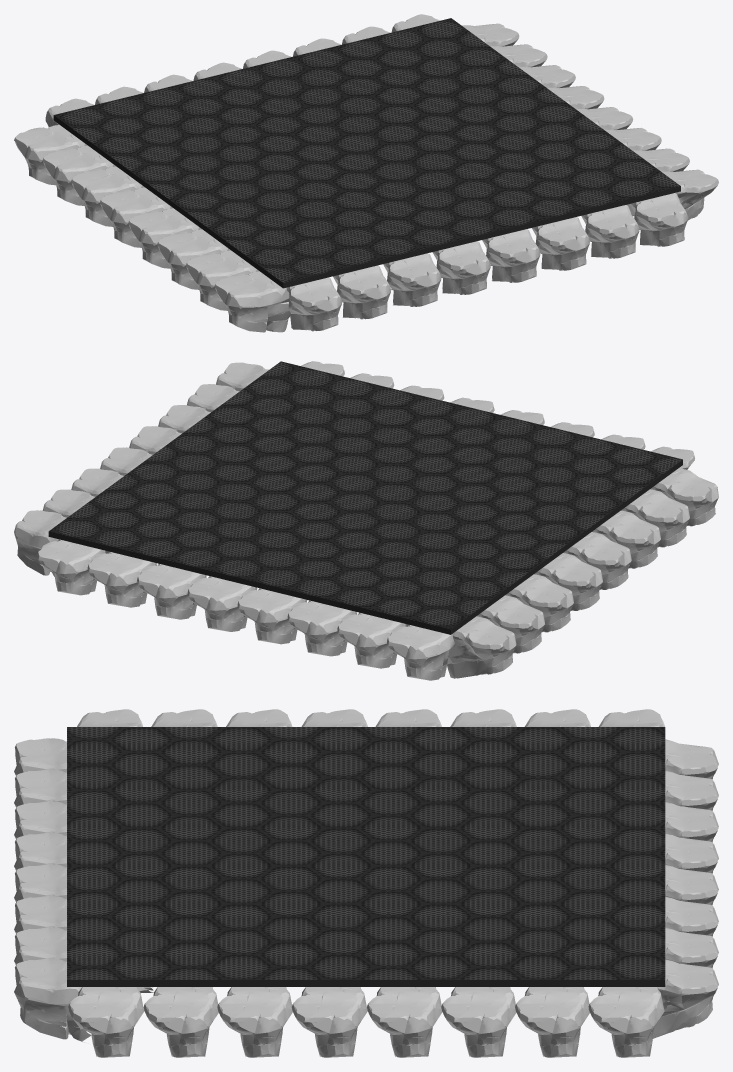
The model's file is Main Plane with Rocks.fbx.
3 renders of one model, top to bottom at view 1: azimuth 30°, elevation 25°; view 2: azimuth 150°, elevation 25°; view 3: azimuth 270°, elevation 25°, orthographic. The views are drawn at different scales.
Visible parts, largest first — view 1: Main_Plane, TAI_Rock_Large_01A_LOD0.031, TAI_Rock_Large_01A_LOD0.020, TAI_Rock_Large_01A_LOD0.022, TAI_Rock_Large_01A_LOD0.016, TAI_Rock_Large_01A_LOD0.025, TAI_Rock_Large_01A_LOD0.024, TAI_Rock_Large_01A_LOD0.026, TAI_Rock_Large_01A_LOD0.018, TAI_Rock_Large_01A_LOD0.013, TAI_Rock_Large_01A_LOD0.019, TAI_Rock_Large_01A_LOD0.010 (+14 smaller); view 2: Main_Plane, TAI_Rock_Large_01A_LOD0.027, TAI_Rock_Large_01A_LOD0.015, TAI_Rock_Large_01A_LOD0.008, TAI_Rock_Large_01A_LOD0.011, TAI_Rock_Large_01A_LOD0.005, TAI_Rock_Large_01A_LOD0.007, TAI_Rock_Large_01A_LOD0.003, TAI_Rock_Large_01A_LOD0.001, TAI_Rock_Large_01A_LOD0.009, TAI_Rock_Large_01A_LOD0.023, TAI_Rock_Large_01A_LOD0.014 (+13 smaller); view 3: Main_Plane, TAI_Rock_Large_01A_LOD0.026, TAI_Rock_Large_01A_LOD0.002, TAI_Rock_Large_01A_LOD0.032, TAI_Rock_Large_01A_LOD0.021, TAI_Rock_Large_01A_LOD0.017, TAI_Rock_Large_01A_LOD0.028, TAI_Rock_Large_01A_LOD0.012, TAI_Rock_Large_01A_LOD0.030, TAI_Rock_Large_01A_LOD0.006, TAI_Rock_Large_01A_LOD0.011, TAI_Rock_Large_01A_LOD0.013 (+21 smaller).
Part boxes in pixels (<box>): Main_Plane: <box>53,18,680,288</box>; TAI_Rock_Large_01A_LOD0.031: <box>214,271,290,332</box>; TAI_Rock_Large_01A_LOD0.020: <box>287,277,341,331</box>; TAI_Rock_Large_01A_LOD0.022: <box>482,229,540,282</box>; TAI_Rock_Large_01A_LOD0.016: <box>383,253,441,306</box>; TAI_Rock_Large_01A_LOD0.025: <box>581,205,639,258</box>; TAI_Rock_Large_01A_LOD0.024: <box>532,217,589,270</box>; TAI_Rock_Large_01A_LOD0.026: <box>630,193,688,246</box>; TAI_Rock_Large_01A_LOD0.018: <box>432,241,490,294</box>; TAI_Rock_Large_01A_LOD0.013: <box>333,265,391,319</box>; TAI_Rock_Large_01A_LOD0.019: <box>128,208,202,268</box>; TAI_Rock_Large_01A_LOD0.010: <box>71,166,144,226</box>; Main_Plane: <box>48,361,682,634</box>; TAI_Rock_Large_01A_LOD0.027: <box>406,616,516,678</box>; TAI_Rock_Large_01A_LOD0.015: <box>387,625,454,680</box>; TAI_Rock_Large_01A_LOD0.008: <box>137,564,206,619</box>; TAI_Rock_Large_01A_LOD0.011: <box>37,539,105,595</box>; TAI_Rock_Large_01A_LOD0.005: <box>237,588,307,644</box>; TAI_Rock_Large_01A_LOD0.007: <box>187,576,257,631</box>; TAI_Rock_Large_01A_LOD0.003: <box>287,600,356,656</box>; TAI_Rock_Large_01A_LOD0.001: <box>337,612,406,668</box>; TAI_Rock_Large_01A_LOD0.009: <box>87,551,157,607</box>; TAI_Rock_Large_01A_LOD0.023: <box>592,510,660,568</box>; TAI_Rock_Large_01A_LOD0.014: <box>534,553,602,610</box>; Main_Plane: <box>67,727,665,986</box>; TAI_Rock_Large_01A_LOD0.026: <box>14,958,153,1043</box>; TAI_Rock_Large_01A_LOD0.002: <box>588,987,664,1057</box>; TAI_Rock_Large_01A_LOD0.032: <box>68,987,144,1057</box>; TAI_Rock_Large_01A_LOD0.021: <box>291,987,367,1057</box>; TAI_Rock_Large_01A_LOD0.017: <box>367,987,442,1057</box>; TAI_Rock_Large_01A_LOD0.028: <box>217,987,292,1057</box>; TAI_Rock_Large_01A_LOD0.012: <box>441,987,516,1057</box>; TAI_Rock_Large_01A_LOD0.030: <box>143,987,218,1057</box>; TAI_Rock_Large_01A_LOD0.006: <box>515,987,589,1057</box>; TAI_Rock_Large_01A_LOD0.011: <box>653,959,718,1038</box>; TAI_Rock_Large_01A_LOD0.013: <box>14,769,66,807</box>.
Bounding box in the file's own units: 1228 × 146 × 1178.
